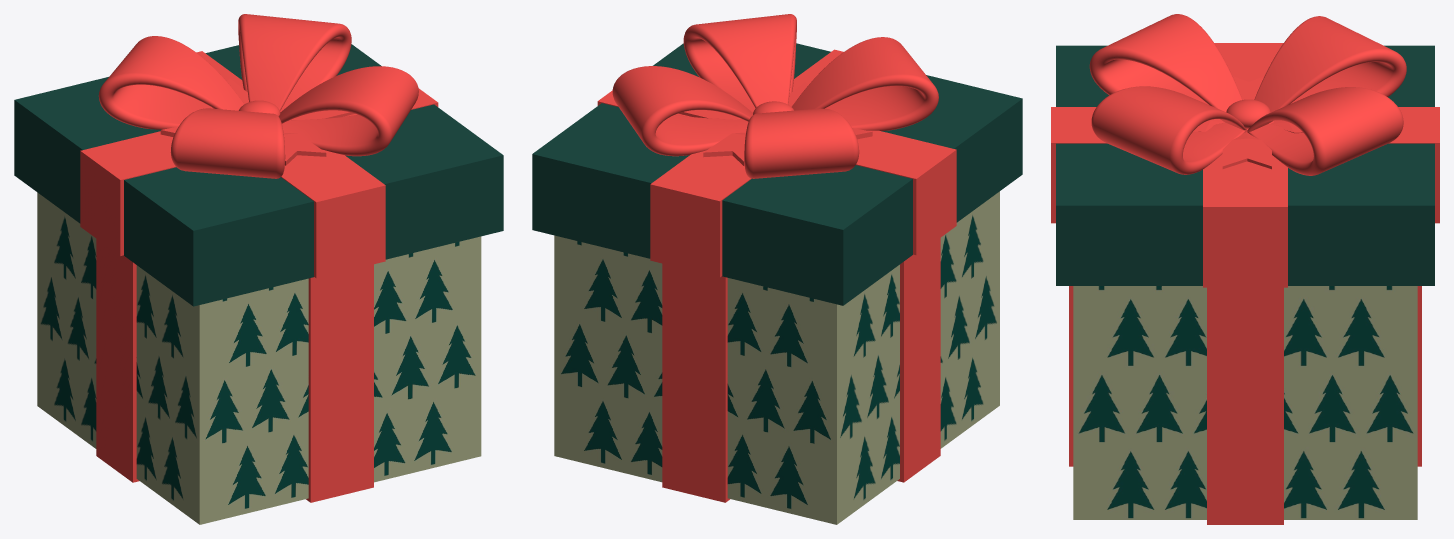
Rendered from Chirstmas GiftBox.fbx.
3 renders of one model, left to right at view 1: azimuth 30°, elevation 25°; view 2: azimuth 150°, elevation 25°; view 3: azimuth 270°, elevation 25°, orthographic. The views are drawn at different scales.
Parts seen in each view (by area): view 1: Box, Cover, TopRibbon, Ribbon Box, Ribbon Cover; view 2: Box, Cover, TopRibbon, Ribbon Box, Ribbon Cover; view 3: Box, Cover, TopRibbon, Ribbon Box, Ribbon Cover.
Boxes of the visible parts, left/top/right/bottom form: Box: left=37, top=192, right=481, bottom=524; Cover: left=14, top=44, right=503, bottom=306; TopRibbon: left=98, top=14, right=418, bottom=178; Ribbon Box: left=96, top=239, right=373, bottom=502; Ribbon Cover: left=80, top=51, right=438, bottom=278; Box: left=554, top=191, right=999, bottom=524; Cover: left=532, top=43, right=1022, bottom=305; TopRibbon: left=612, top=14, right=938, bottom=178; Ribbon Box: left=662, top=238, right=940, bottom=502; Ribbon Cover: left=597, top=49, right=956, bottom=277; Box: left=1073, top=286, right=1417, bottom=519; Cover: left=1056, top=45, right=1434, bottom=285; TopRibbon: left=1089, top=14, right=1406, bottom=175; Ribbon Box: left=1069, top=286, right=1421, bottom=524; Ribbon Cover: left=1051, top=43, right=1439, bottom=287.
Size of the model in its own units: 246 by 226 by 226.
